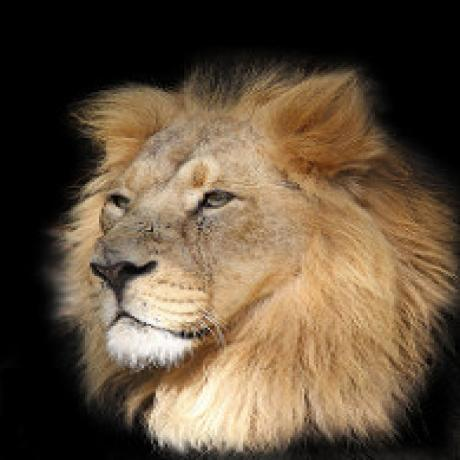Lion: (48, 56, 460, 453)
